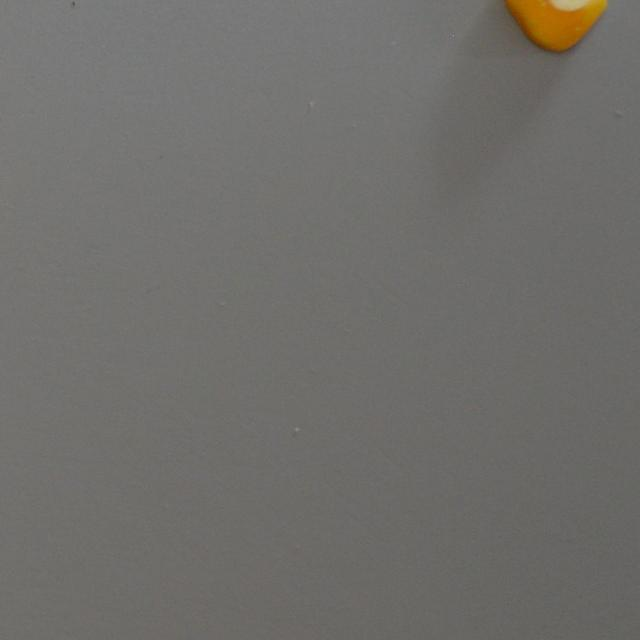no_canjicado: (500, 0, 608, 54)
